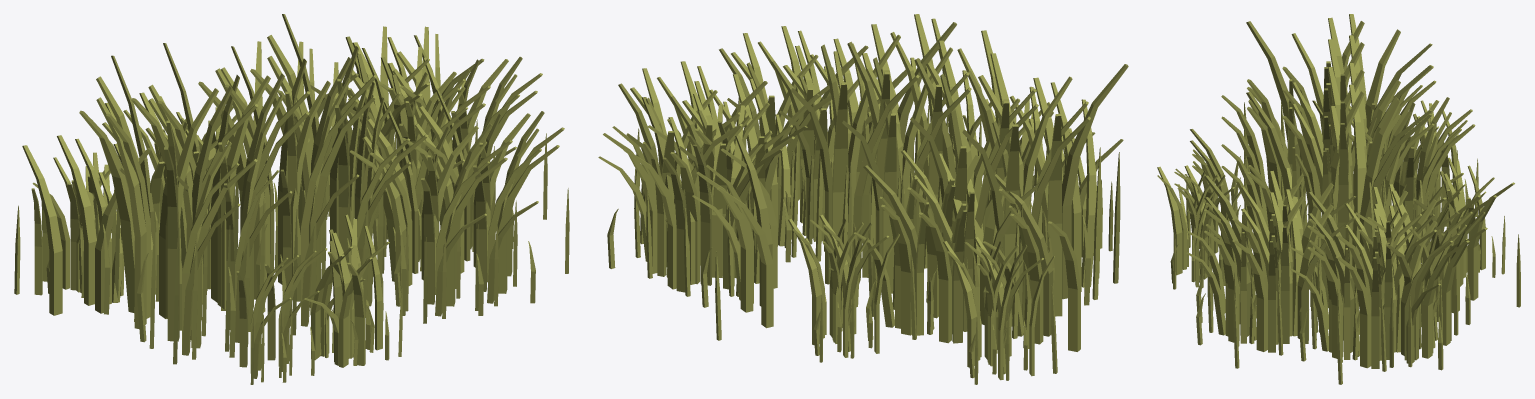
Rendered from grass.fbx.
The picture shows the model from 3 angles, left to right: view 1: azimuth 30°, elevation 25°; view 2: azimuth 150°, elevation 25°; view 3: azimuth 270°, elevation 25°; orthographic projection. The views are drawn at different scales.
Parts seen in each view (by area): view 1: Cube.225, Cube.213, Cube.284, Cube.219, Cube.285, Cube.022, Cube.014, Cube.229, Cube.286, Cube.186, Cube.226, Cube.221 (+88 smaller); view 2: Cube.213, Cube.219, Cube.061, Cube.235, Cube.284, Cube.234, Cube.321, Cube.003, Cube.286, Cube.215, Cube.320, Cube.271 (+94 smaller); view 3: Cube.055, Cube.073, Cube.168, Cube.270, Cube.219, Cube.061, Cube.234, Cube.167, Cube.271, Cube.060, Cube.074, Cube.065 (+81 smaller).
Boxes of the visible parts, x1,y1,x2,y2 form: Cube.225: (79,110,134,312); Cube.213: (96,97,146,328); Cube.284: (22,145,62,315); Cube.219: (164,147,179,341); Cube.285: (57,135,96,305); Cube.022: (217,75,270,309); Cube.014: (310,95,376,315); Cube.229: (165,88,218,318); Cube.286: (95,148,151,313); Cube.186: (243,111,309,331); Cube.226: (106,113,150,318); Cube.221: (191,159,257,348); Cube.213: (1047,113,1062,316); Cube.219: (1062,64,1128,299); Cube.061: (832,82,848,240); Cube.235: (696,171,753,312); Cube.284: (1048,221,1080,351); Cube.234: (716,187,773,328); Cube.321: (919,212,951,343); Cube.003: (882,113,896,293); Cube.286: (994,174,1053,336); Cube.215: (1081,99,1096,287); Cube.320: (881,204,914,335); Cube.271: (623,148,676,289); Cube.055: (1349,84,1366,270); Cube.073: (1232,239,1267,351); Cube.168: (1336,256,1371,368); Cube.270: (1422,240,1469,358); Cube.219: (1246,21,1299,200); Cube.061: (1360,100,1400,256); Cube.234: (1467,182,1514,300); Cube.167: (1307,247,1343,358); Cube.271: (1441,227,1487,345); Cube.060: (1338,123,1349,249); Cube.074: (1204,230,1239,342); Cube.065: (1280,226,1289,343).
Size of the model in its own units: 234 by 106 by 183.
